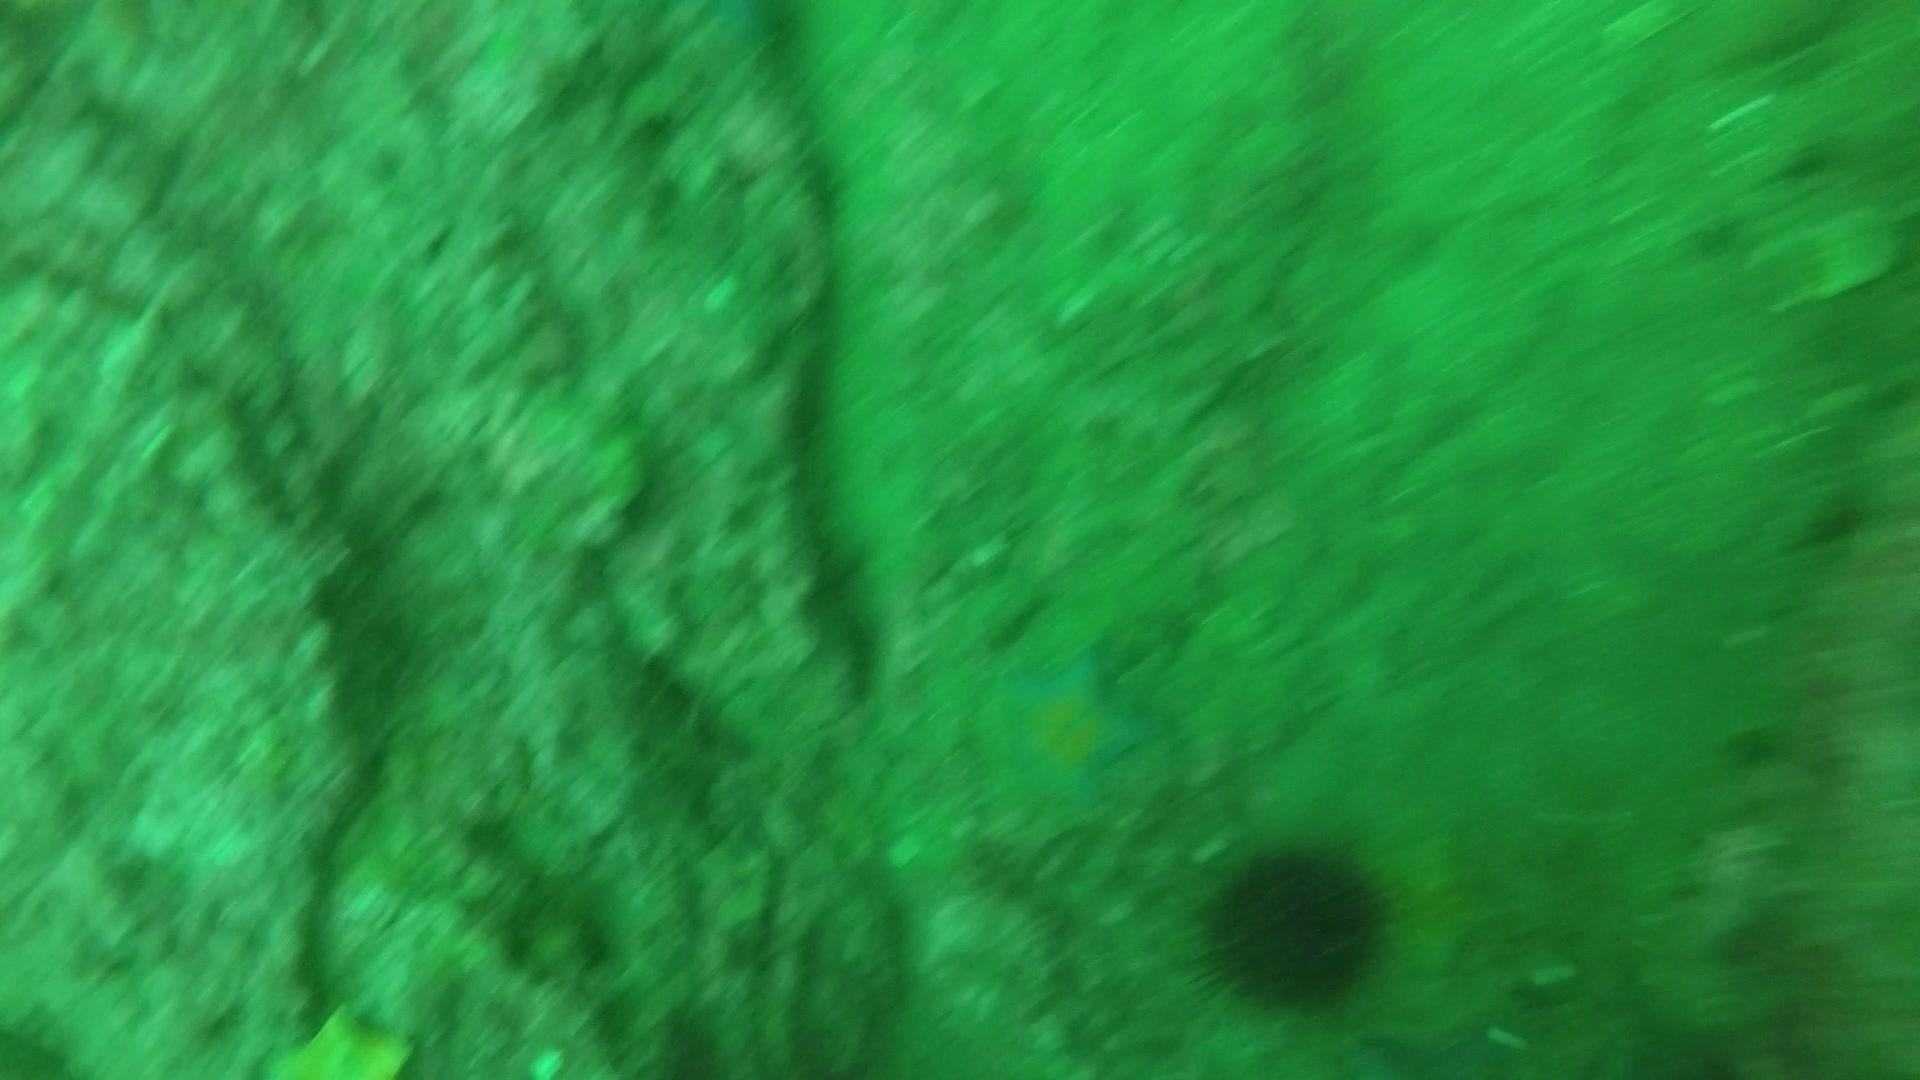echinus: (1185, 829, 1400, 1015)
starfish: (977, 640, 1160, 823), (264, 996, 423, 1073)
